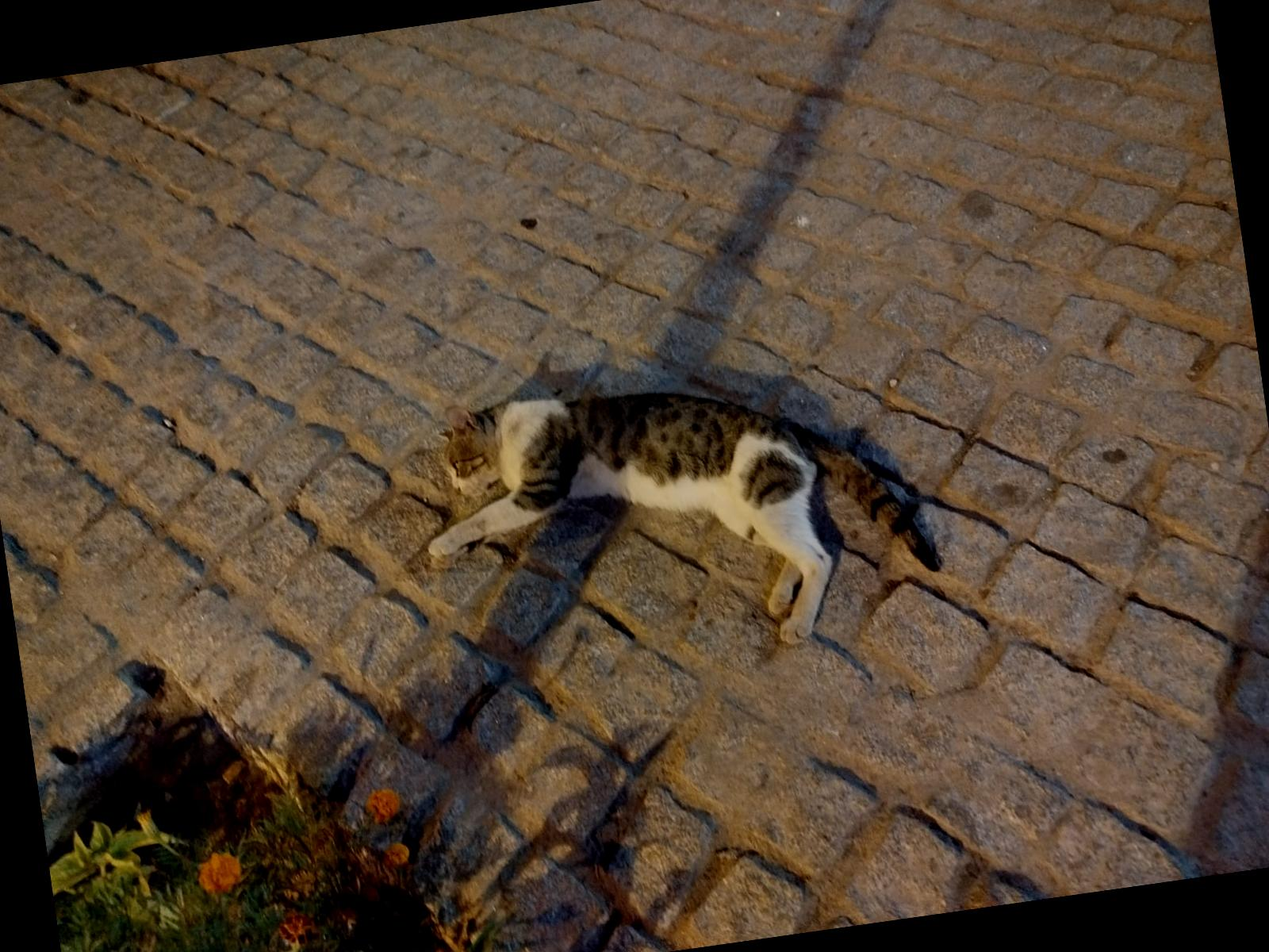macka: (406, 340, 949, 693)
